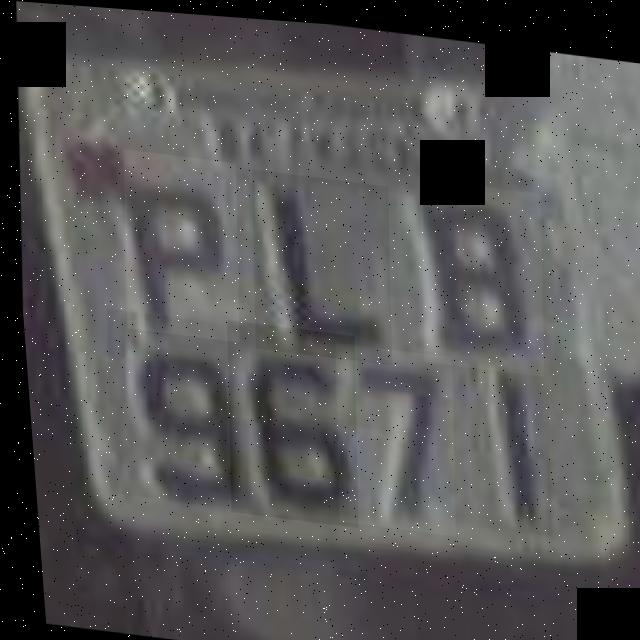1: (462, 356, 553, 529)
6: (212, 316, 361, 523)
7: (321, 337, 457, 530)
9: (93, 307, 253, 508)
B: (408, 172, 548, 369)
J: (240, 165, 396, 360)
P: (112, 147, 244, 340)
